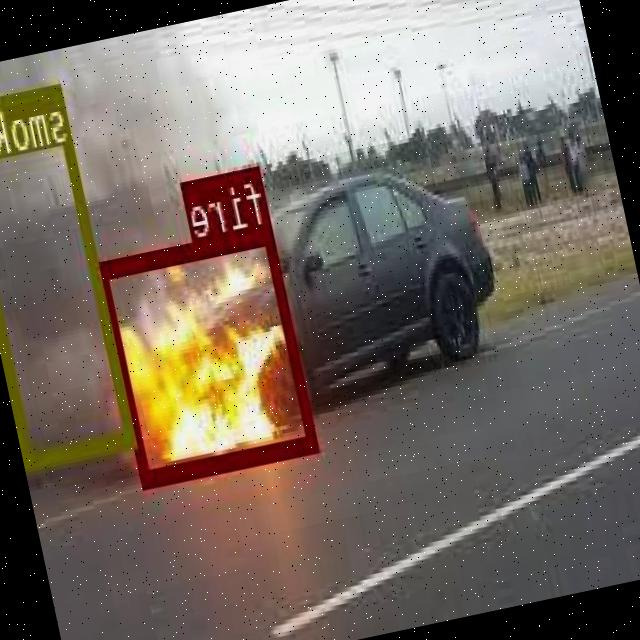fire: (98, 224, 320, 483)
smoke: (0, 82, 137, 463)
